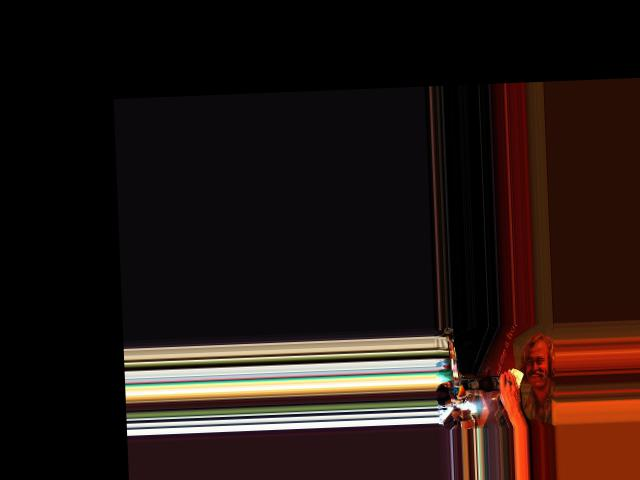beer: (460, 374, 516, 391)
